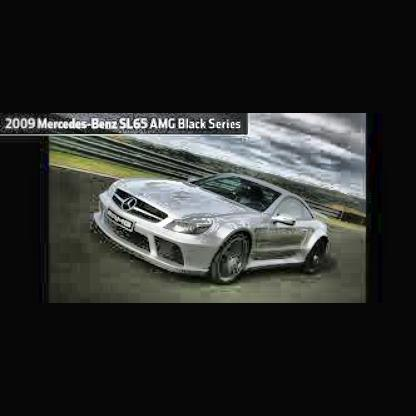Mercedes-Benz SL-Class Coupe 2009: (91, 171, 327, 288)
